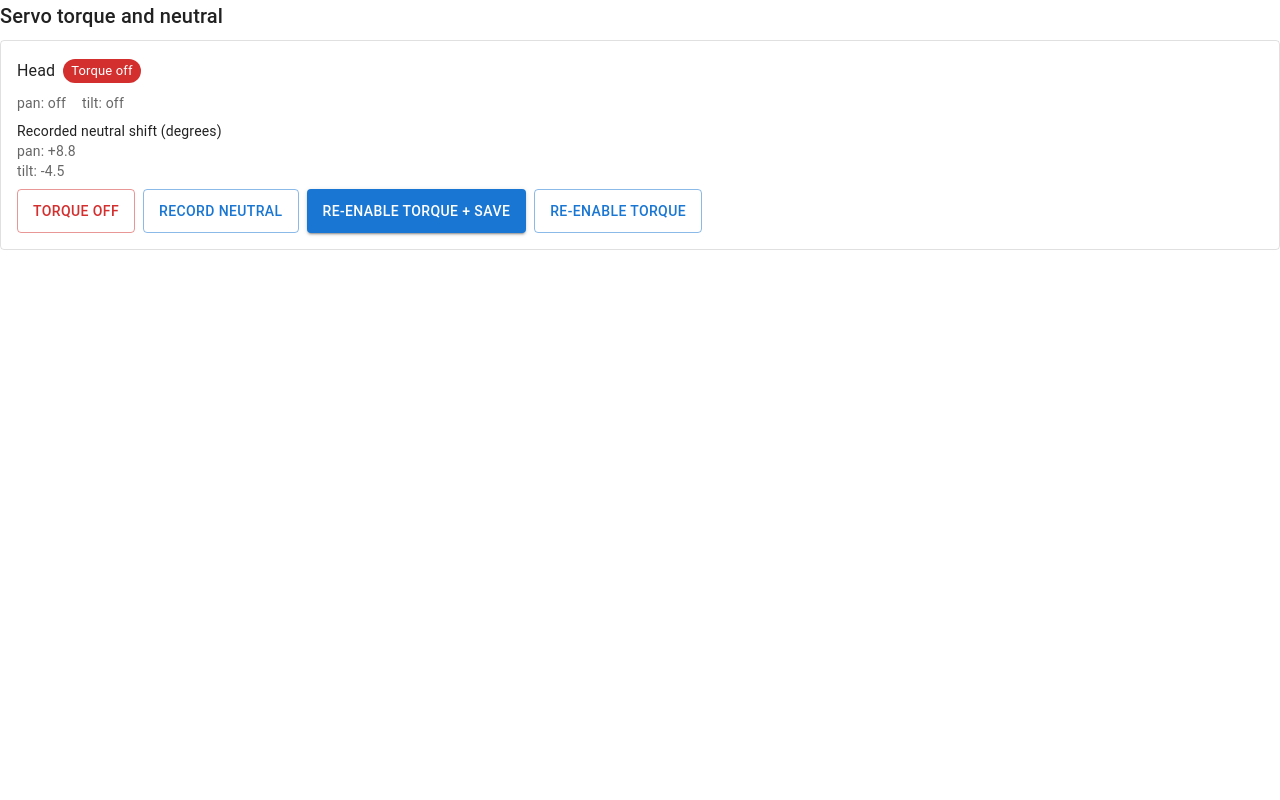
Test: ServoNeutral › save confirm lists the recorded shift of every joint
The image size is (1280, 800).
Expected: the element "Head" is shown, 0,40 -> 1279,250
Click the button "Re-enable torque + save" at (416, 211), box 307,189 -> 526,233
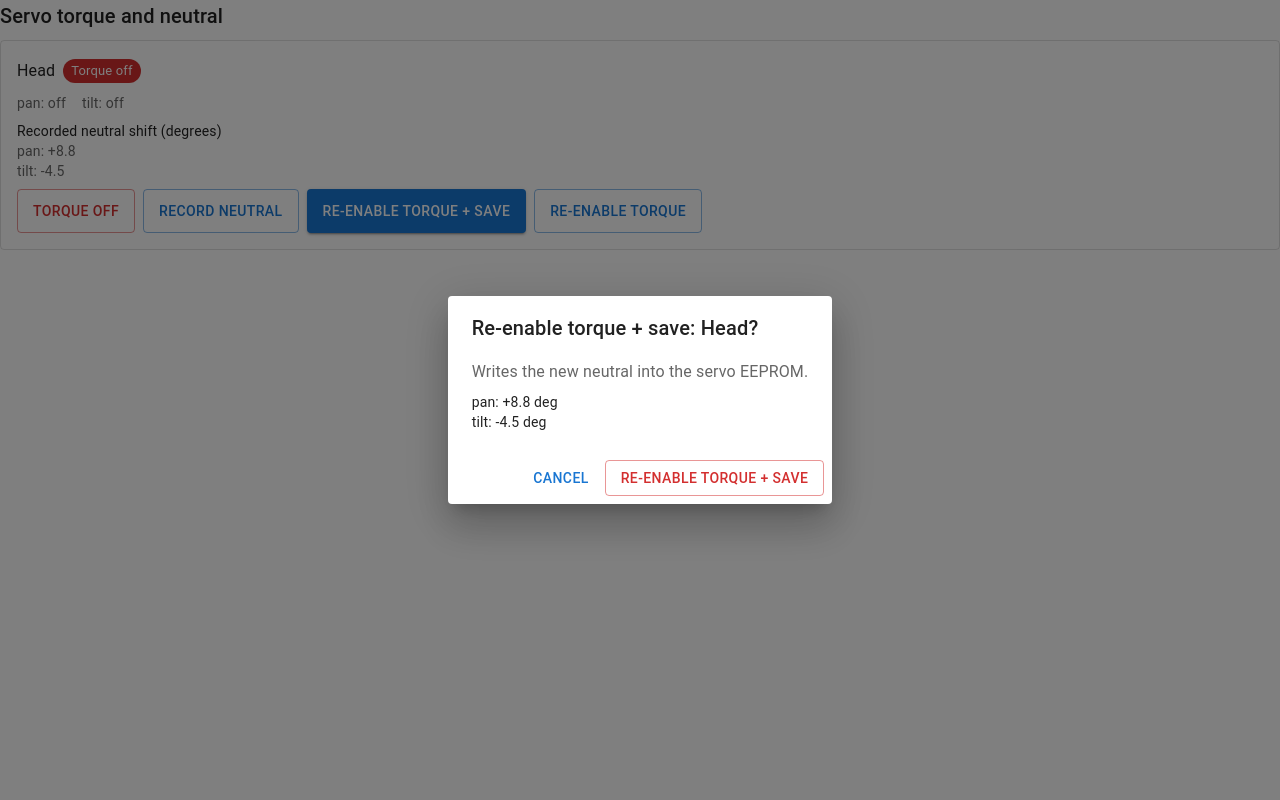
Expected: the text "pan: +8.8 deg" is shown, 472,394 -> 558,410
Expected: the text "tilt: -4.5 deg" is shown, 472,414 -> 547,430
